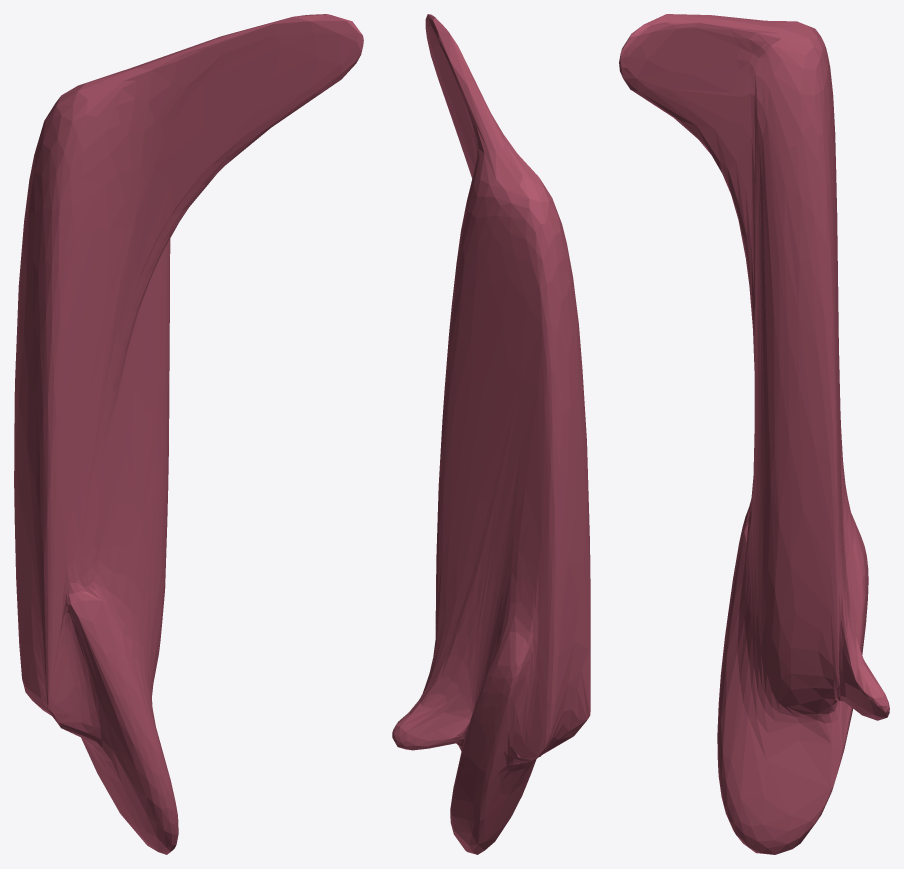
The picture shows the model from 3 angles, left to right: view 1: azimuth 30°, elevation 25°; view 2: azimuth 150°, elevation 25°; view 3: azimuth 270°, elevation 25°; orthographic projection. The views are drawn at different scales.
Visible parts, largest first — view 1: 463_Cube.1873; view 2: 463_Cube.1873; view 3: 463_Cube.1873.
Boxes of the visible parts, box(x1,y1,x2,y2) form: 463_Cube.1873: box(14, 14, 363, 854); 463_Cube.1873: box(392, 14, 590, 854); 463_Cube.1873: box(619, 14, 889, 854).
Bounding box in the file's own units: 5.03 × 16.24 × 4.5.
